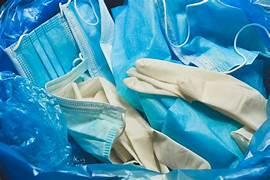Mask: (46, 61, 209, 171), (124, 58, 266, 129), (159, 0, 268, 72), (46, 60, 123, 161), (140, 94, 242, 168), (112, 0, 170, 108), (5, 14, 79, 86), (61, 0, 113, 81)
